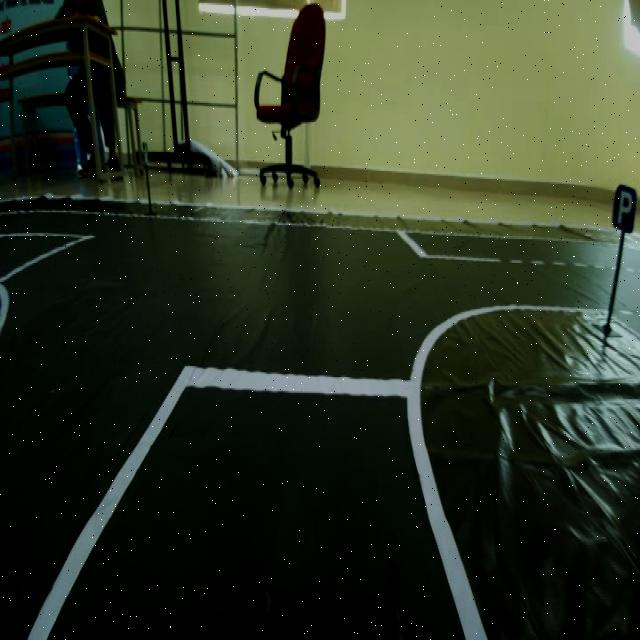parking: (609, 178, 637, 235)
